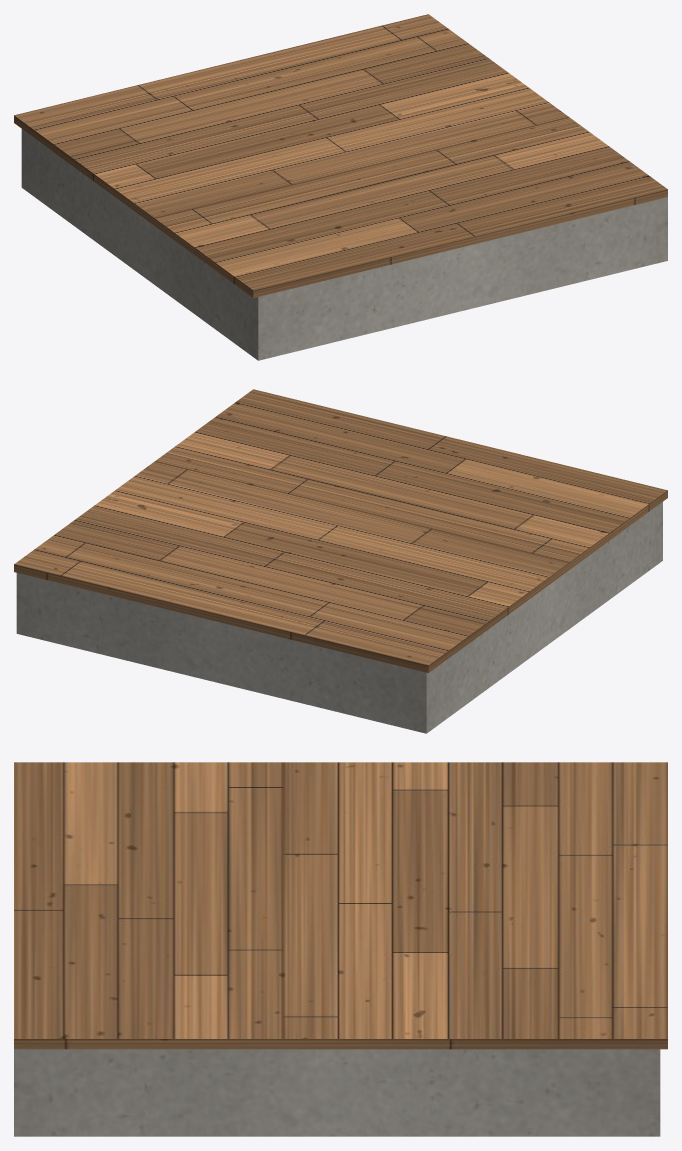
The model's file is floor_wood_g_e0_30_0_30.glb.
The picture shows the model from 3 angles, top to bottom: view 1: azimuth 30°, elevation 25°; view 2: azimuth 150°, elevation 25°; view 3: azimuth 270°, elevation 25°; orthographic projection. The views are drawn at different scales.
Visible parts, largest first — view 1: floor_wood_g_e0_30_0_30_floor, floor_wood_g_e0_30_0_30_concrete; view 2: floor_wood_g_e0_30_0_30_floor, floor_wood_g_e0_30_0_30_concrete; view 3: floor_wood_g_e0_30_0_30_floor, floor_wood_g_e0_30_0_30_concrete.
Part boxes in pixels (box(x1,y1,x2,y2)): floor_wood_g_e0_30_0_30_floor: box(14, 14, 667, 297); floor_wood_g_e0_30_0_30_concrete: box(21, 129, 667, 360); floor_wood_g_e0_30_0_30_floor: box(14, 389, 667, 672); floor_wood_g_e0_30_0_30_concrete: box(16, 502, 662, 733); floor_wood_g_e0_30_0_30_floor: box(14, 762, 667, 1049); floor_wood_g_e0_30_0_30_concrete: box(14, 1049, 660, 1136).
Bounding box in the file's own units: 1.7 × 0.28 × 1.7.
Materials: 2 (2 with a texture image).
